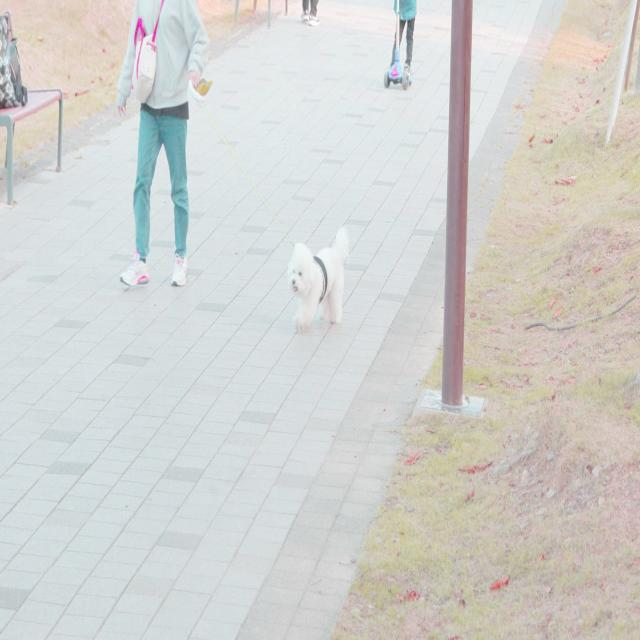Leashed_Dog: (159, 63, 349, 330)
